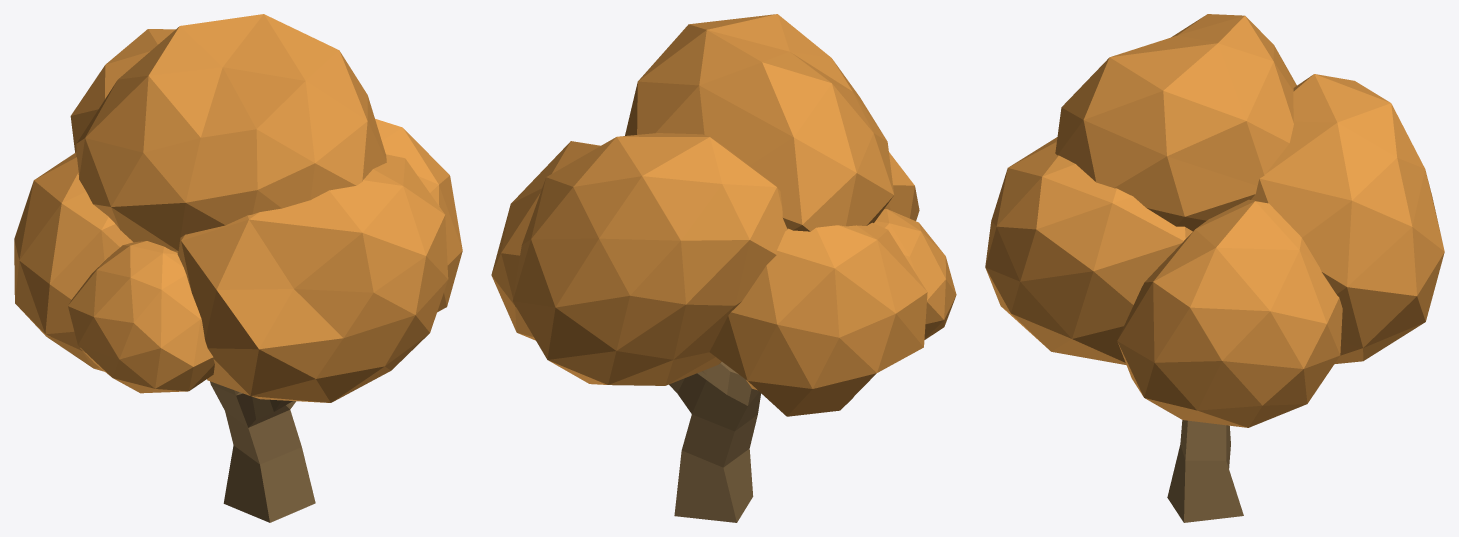
The model's file is forest-oak-c-fall.glb.
3 views of the same model, side by side, from view 1: azimuth 30°, elevation 25°; view 2: azimuth 150°, elevation 25°; view 3: azimuth 270°, elevation 25° (orthographic). The views are drawn at different scales.
Visible parts, largest first — view 1: OakTree3; view 2: OakTree3; view 3: OakTree3.
Boxes of the visible parts, x1,y1,x2,y2 form: OakTree3: [14, 14, 462, 522]; OakTree3: [491, 14, 956, 522]; OakTree3: [985, 14, 1444, 522].
Size of the model in its own units: 13.82 by 15.84 by 14.23.
